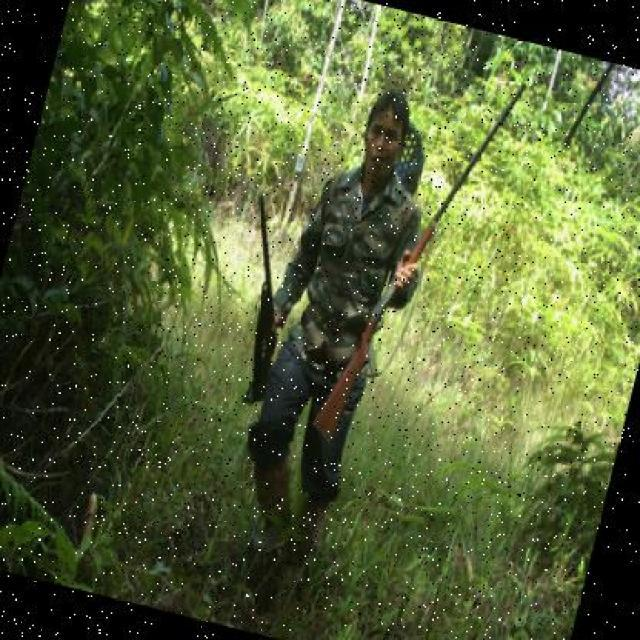poacher: (236, 59, 454, 576)
weapon: (308, 79, 637, 438), (229, 182, 289, 424)
